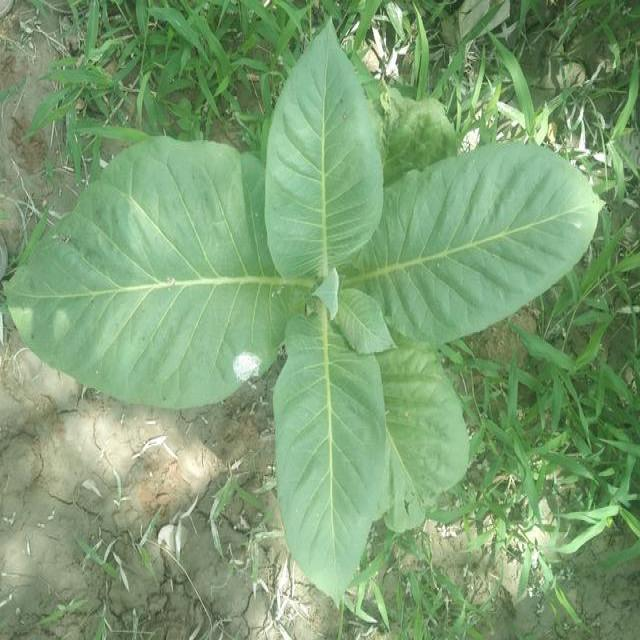crop: (14, 28, 606, 596)
